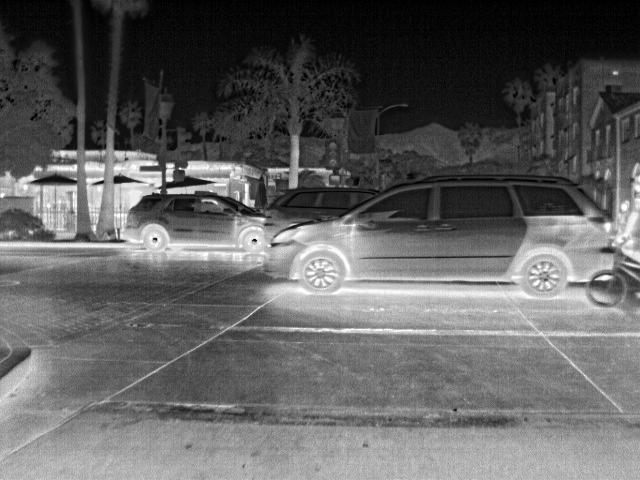car: (262, 172, 622, 300), (122, 190, 269, 255), (257, 184, 387, 246)
person: (612, 171, 640, 268)
